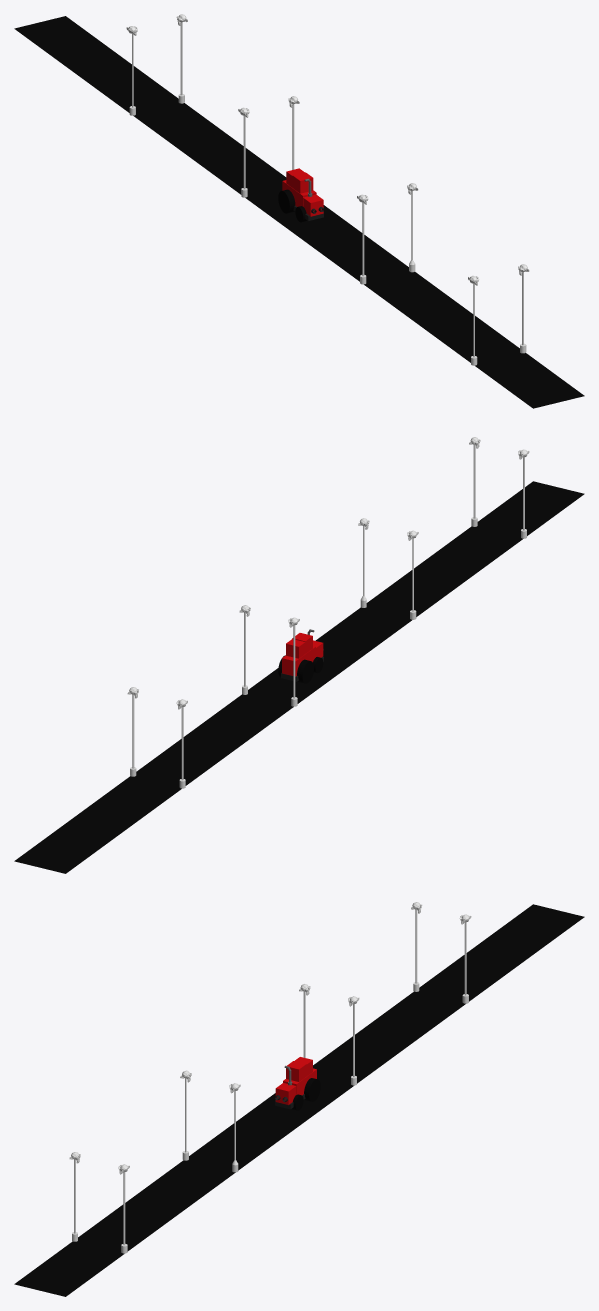
File: tractoronroad.dae
3 views of the same model, one above another, from view 1: azimuth 30°, elevation 25°; view 2: azimuth 150°, elevation 25°; view 3: azimuth 330°, elevation 25° (orthographic).
Parts seen in each view (by area): view 1: Plane; view 2: Plane; view 3: Plane.
Part boxes in pixels (box(x1,y1,x2,y2)): Plane: box(14, 16, 584, 408); Plane: box(14, 481, 584, 873); Plane: box(14, 904, 584, 1296).
Size of the model in its own units: 4.32 by 68.55 by 6.4.
